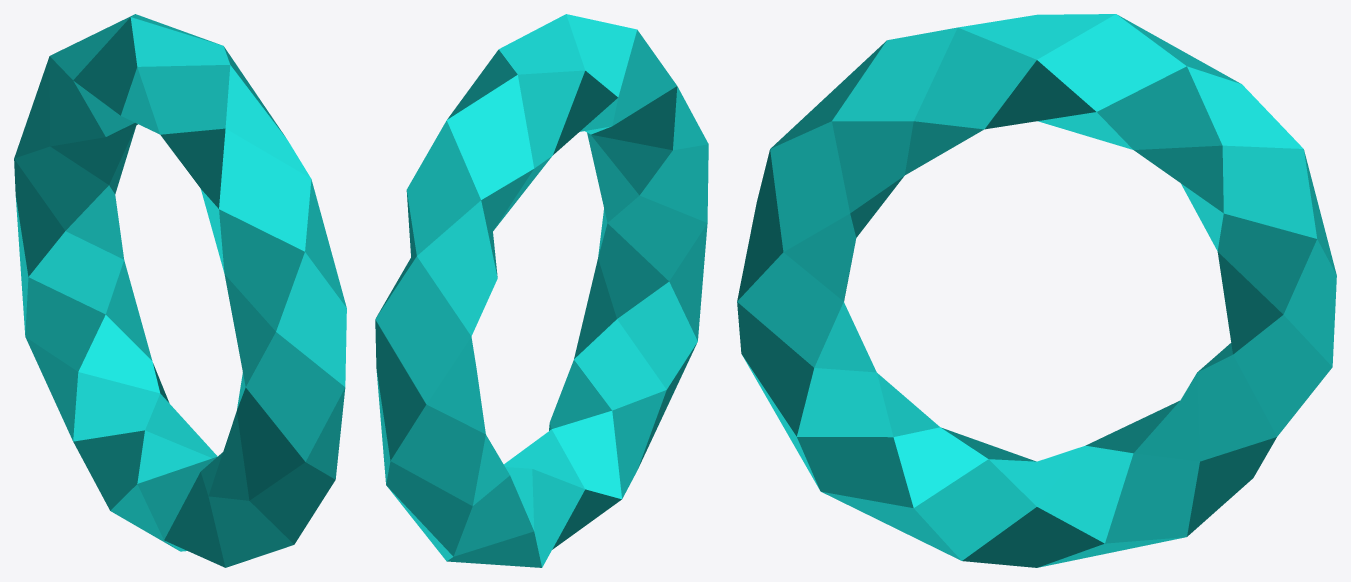
Rendered from portal1.fbx.
The picture shows the model from 3 angles, left to right: view 1: azimuth 30°, elevation 25°; view 2: azimuth 150°, elevation 25°; view 3: azimuth 270°, elevation 25°; orthographic projection. The views are drawn at different scales.
Visible parts, largest first — view 1: TwistedTorus; view 2: TwistedTorus; view 3: TwistedTorus.
Boxes of the visible parts, x1=… form: TwistedTorus: x1=14, y1=14, x2=346, y2=567; TwistedTorus: x1=375, y1=14, x2=708, y2=567; TwistedTorus: x1=737, y1=14, x2=1336, y2=567.
Size of the model in its own units: 50 by 245 by 243.
